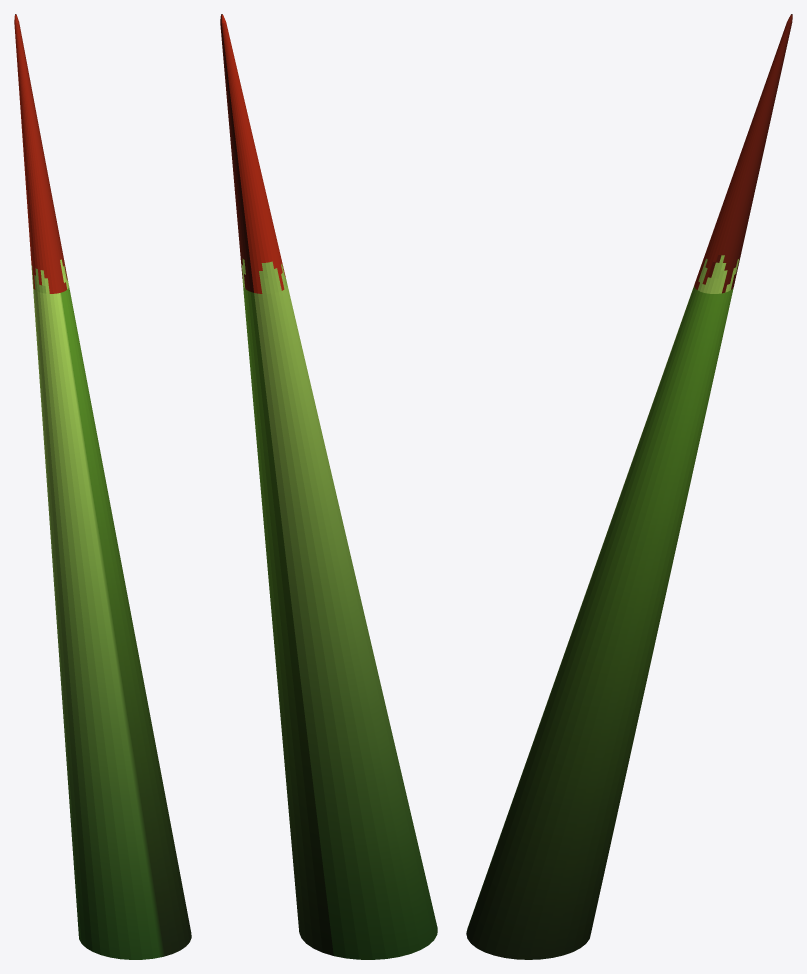
File: spike.fbx
3 views of the same model, side by side, from view 1: azimuth 30°, elevation 25°; view 2: azimuth 150°, elevation 25°; view 3: azimuth 270°, elevation 25° (orthographic). The views are drawn at different scales.
Parts seen in each view (by area): view 1: Cylinder; view 2: Cylinder; view 3: Cylinder.
Part boxes in pixels (x1=…): Cylinder: x1=14, y1=14, x2=191, y2=959; Cylinder: x1=220, y1=14, x2=437, y2=959; Cylinder: x1=466, y1=14, x2=792, y2=959.
Bounding box in the file's own units: 87.14 × 709 × 228.
